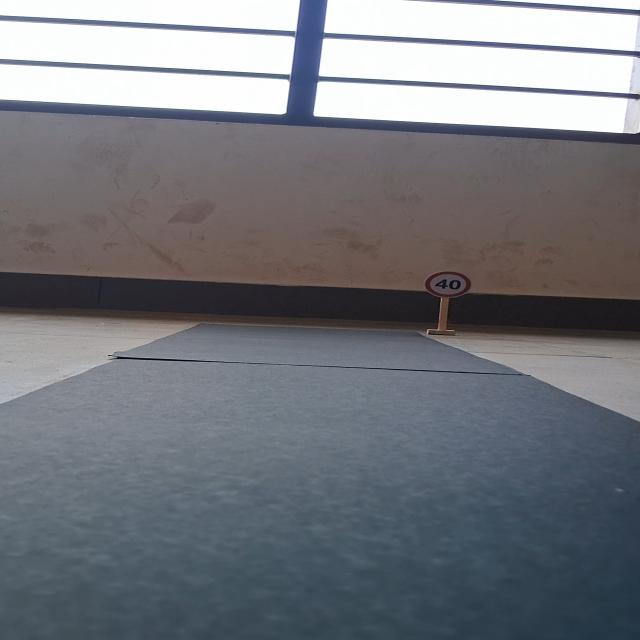Speed40: (419, 268, 474, 298)
